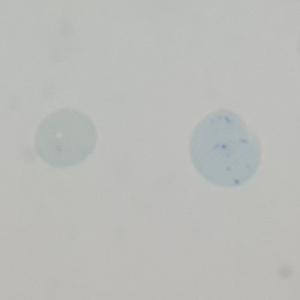erythrocyte: (31, 107, 98, 169)
punctate reticulocyte: (187, 107, 262, 190)
